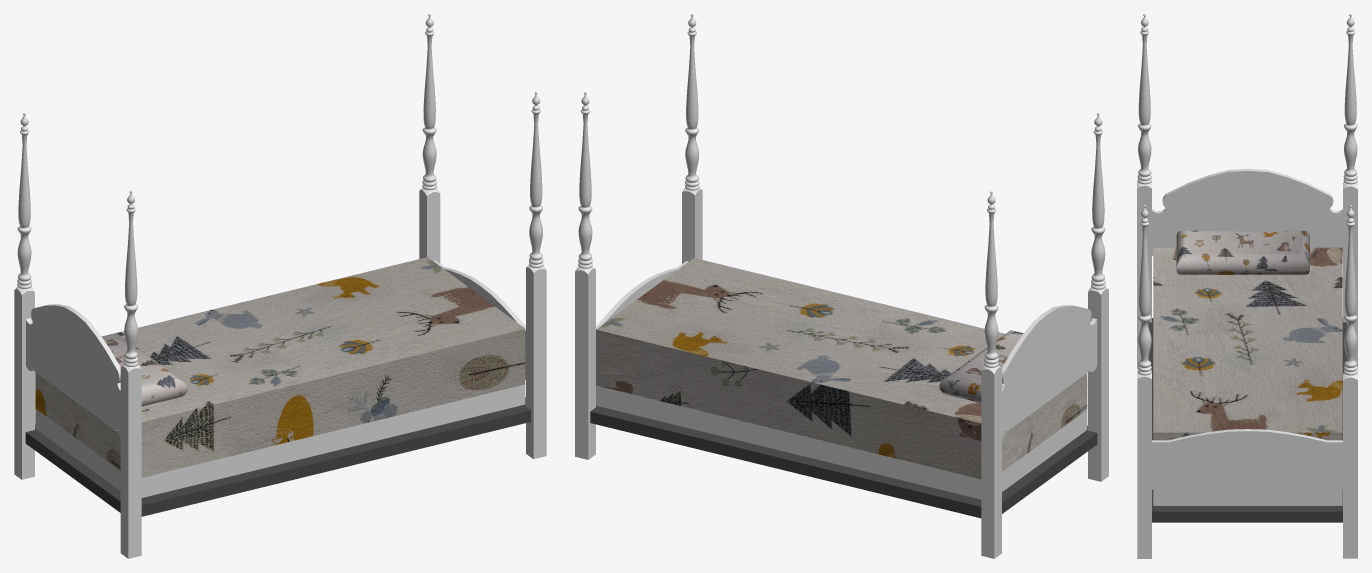
File: Bed.fbx
The picture shows the model from 3 angles, left to right: view 1: azimuth 30°, elevation 25°; view 2: azimuth 150°, elevation 25°; view 3: azimuth 270°, elevation 25°; orthographic projection. The views are drawn at different scales.
Visible parts, largest first — view 1: polySurface64, polySurface73, polySurface74, polySurface62, polySurface66, polySurface76, polySurface69, polySurface71, polySurface78, polySurface68, polySurface75, polySurface67 (+2 smaller); view 2: polySurface64, polySurface73, polySurface74, polySurface62, polySurface69, polySurface79, polySurface66, polySurface71, polySurface68, polySurface78, polySurface67, polySurface75 (+2 smaller); view 3: polySurface64, polySurface77, polySurface62, polySurface71, polySurface74, polySurface73, polySurface76, polySurface79, polySurface67, polySurface78, polySurface68, polySurface75 (+4 smaller).
Part boxes in pixels (left/top/right/bottom): polySurface64: left=35, top=257, right=525, bottom=477; polySurface73: left=35, top=384, right=525, bottom=497; polySurface74: left=25, top=397, right=530, bottom=516; polySurface62: left=34, top=304, right=120, bottom=430; polySurface66: left=120, top=364, right=141, bottom=558; polySurface76: left=526, top=265, right=546, bottom=459; polySurface69: left=14, top=287, right=34, bottom=479; polySurface71: left=101, top=333, right=187, bottom=406; polySurface78: left=422, top=14, right=436, bottom=190; polySurface68: left=17, top=113, right=31, bottom=288; polySurface75: left=529, top=92, right=543, bottom=268; polySurface67: left=123, top=191, right=138, bottom=366; polySurface64: left=596, top=258, right=1087, bottom=479; polySurface73: left=596, top=385, right=1087, bottom=499; polySurface74: left=590, top=405, right=1097, bottom=518; polySurface62: left=1002, top=305, right=1088, bottom=431; polySurface69: left=981, top=365, right=1001, bottom=558; polySurface79: left=575, top=266, right=595, bottom=459; polySurface66: left=1088, top=287, right=1108, bottom=481; polySurface71: left=939, top=330, right=1023, bottom=402; polySurface68: left=984, top=191, right=998, bottom=367; polySurface78: left=578, top=92, right=592, bottom=268; polySurface67: left=1091, top=113, right=1105, bottom=289; polySurface75: left=685, top=14, right=699, bottom=190; polySurface64: left=1153, top=247, right=1342, bottom=440; polySurface77: left=1152, top=429, right=1342, bottom=489; polySurface62: left=1168, top=168, right=1327, bottom=247; polySurface71: left=1176, top=230, right=1309, bottom=274; polySurface74: left=1148, top=318, right=1346, bottom=522; polySurface73: left=1153, top=489, right=1342, bottom=505; polySurface76: left=1137, top=372, right=1151, bottom=558; polySurface79: left=1343, top=373, right=1357, bottom=558; polySurface67: left=1137, top=14, right=1151, bottom=184; polySurface78: left=1343, top=205, right=1357, bottom=375; polySurface68: left=1343, top=14, right=1357, bottom=184; polySurface75: left=1137, top=205, right=1151, bottom=375.
Bounding box in the file's own units: 6.96 × 5.78 × 3.29.
Materials: 4 (2 with a texture image).
